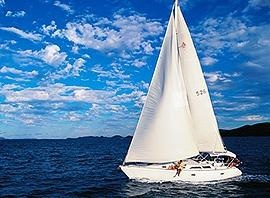fanchuan: (119, 2, 244, 184)
